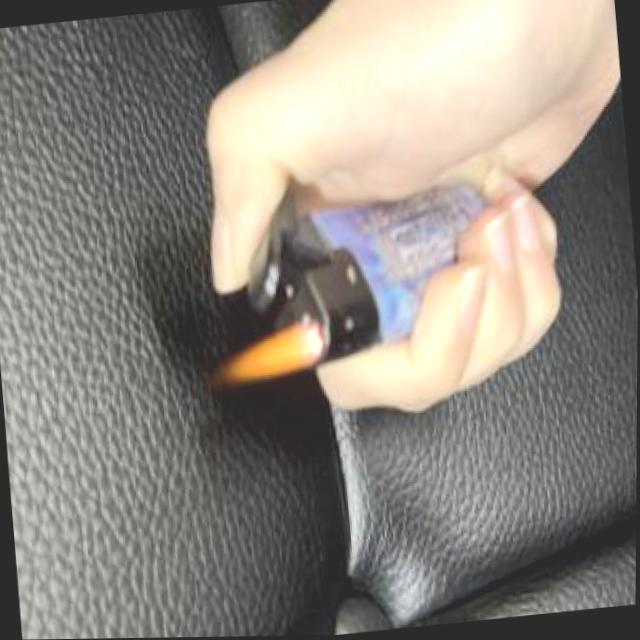fire: (220, 309, 324, 386)
